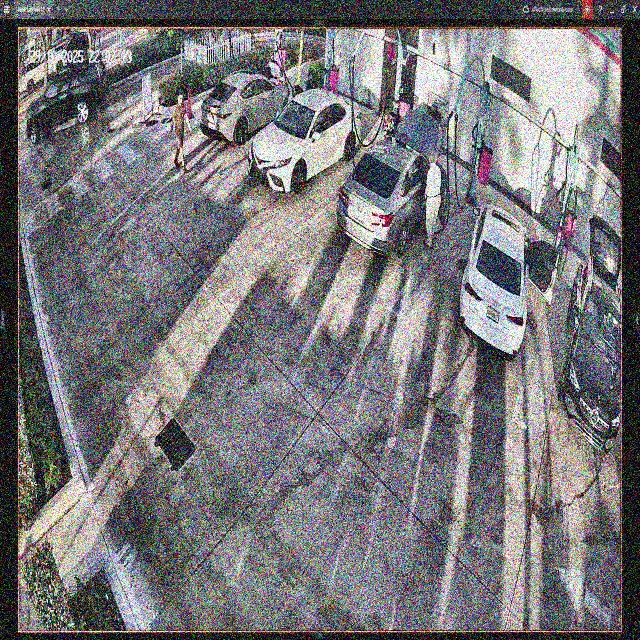Car: (337, 112, 448, 255), (249, 91, 363, 185), (461, 205, 530, 353), (201, 70, 297, 142)
